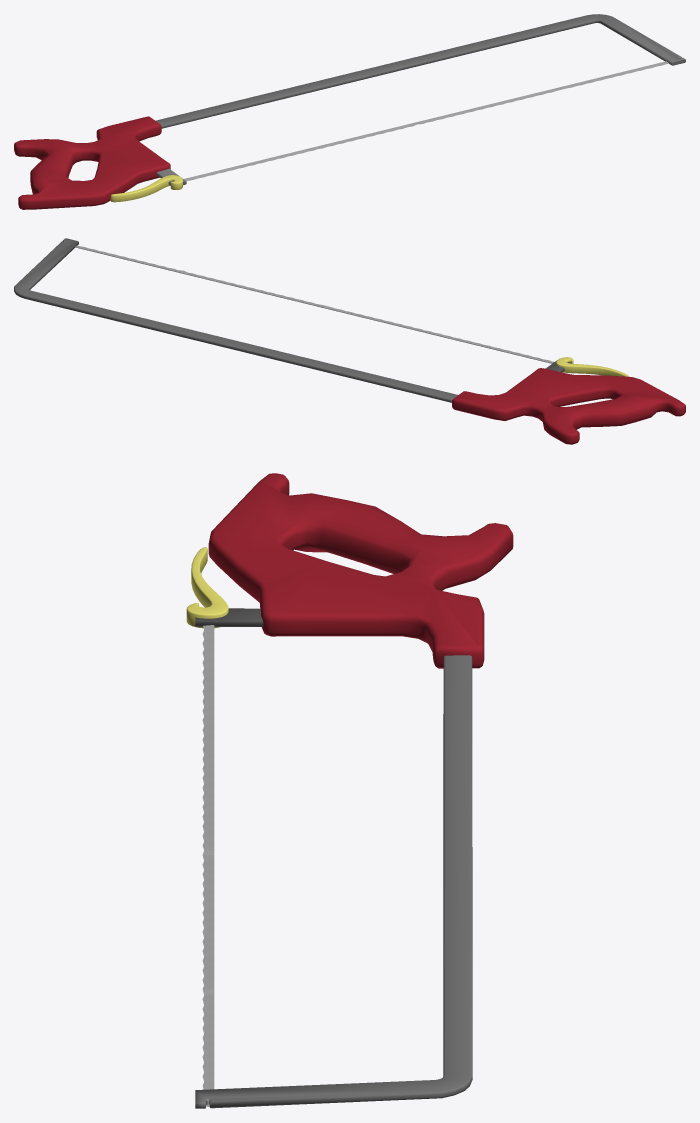
The model's file is hand saw.fbx.
The picture shows the model from 3 angles, top to bottom: view 1: azimuth 30°, elevation 25°; view 2: azimuth 150°, elevation 25°; view 3: azimuth 270°, elevation 25°; orthographic projection. The views are drawn at different scales.
Parts seen in each view (by area): view 1: Handle, Metal Top, Blade, Blade Opener Thing; view 2: Handle, Metal Top, Blade, Blade Opener Thing; view 3: Handle, Metal Top, Blade, Blade Opener Thing.
Part boxes in pixels (bbox=[...]): Handle: bbox=[14, 116, 170, 209]; Metal Top: bbox=[155, 14, 685, 185]; Blade: bbox=[183, 61, 668, 181]; Blade Opener Thing: bbox=[110, 175, 182, 202]; Handle: bbox=[452, 368, 685, 444]; Metal Top: bbox=[14, 238, 571, 402]; Blade: bbox=[75, 245, 554, 363]; Blade Opener Thing: bbox=[556, 357, 628, 376]; Handle: bbox=[208, 473, 513, 668]; Metal Top: bbox=[195, 608, 472, 1108]; Blade: bbox=[202, 625, 214, 1106]; Blade Opener Thing: bbox=[186, 547, 228, 628].
Bounding box in the file's own units: 363 × 10.2 × 80.29.
